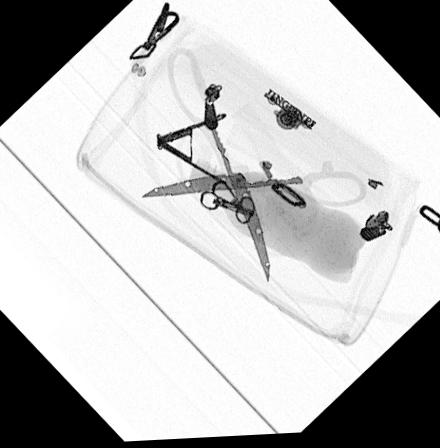Scissors: (137, 49, 368, 288)
